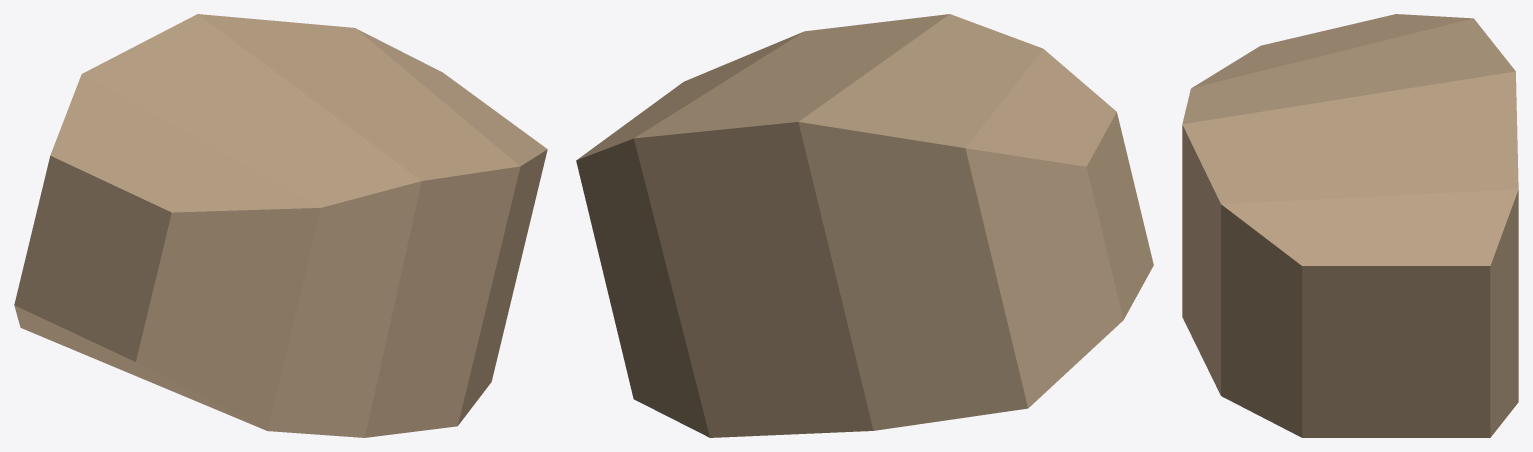
File: rock_19.FBX
The picture shows the model from 3 angles, left to right: view 1: azimuth 30°, elevation 25°; view 2: azimuth 150°, elevation 25°; view 3: azimuth 270°, elevation 25°; orthographic projection. The views are drawn at different scales.
Parts seen in each view (by area): view 1: rock_19; view 2: rock_19; view 3: rock_19.
Part boxes in pixels (x1,y1,x2,y2): rock_19: (14, 14, 547, 437); rock_19: (576, 14, 1153, 437); rock_19: (1182, 14, 1518, 437).
Bounding box in the file's own units: 753 × 490 × 508.
